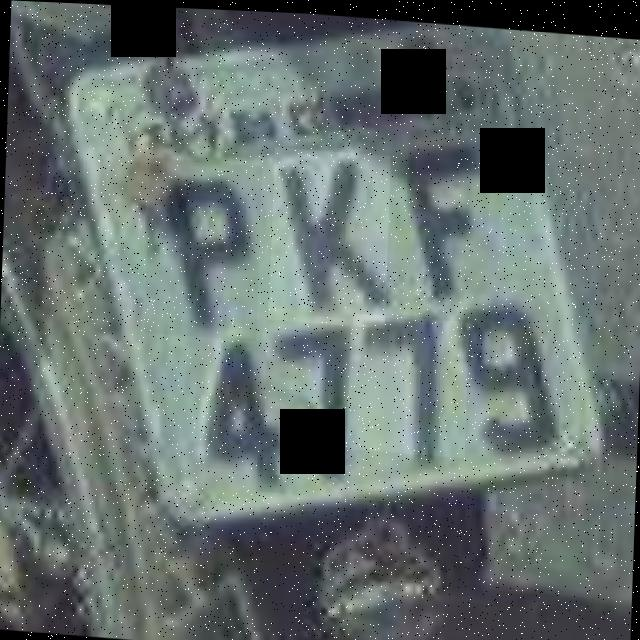7: (262, 298, 388, 480), (348, 309, 469, 453)
9: (447, 272, 566, 456)
F: (394, 124, 504, 304)
K: (268, 144, 391, 325)
P: (144, 155, 262, 339)
